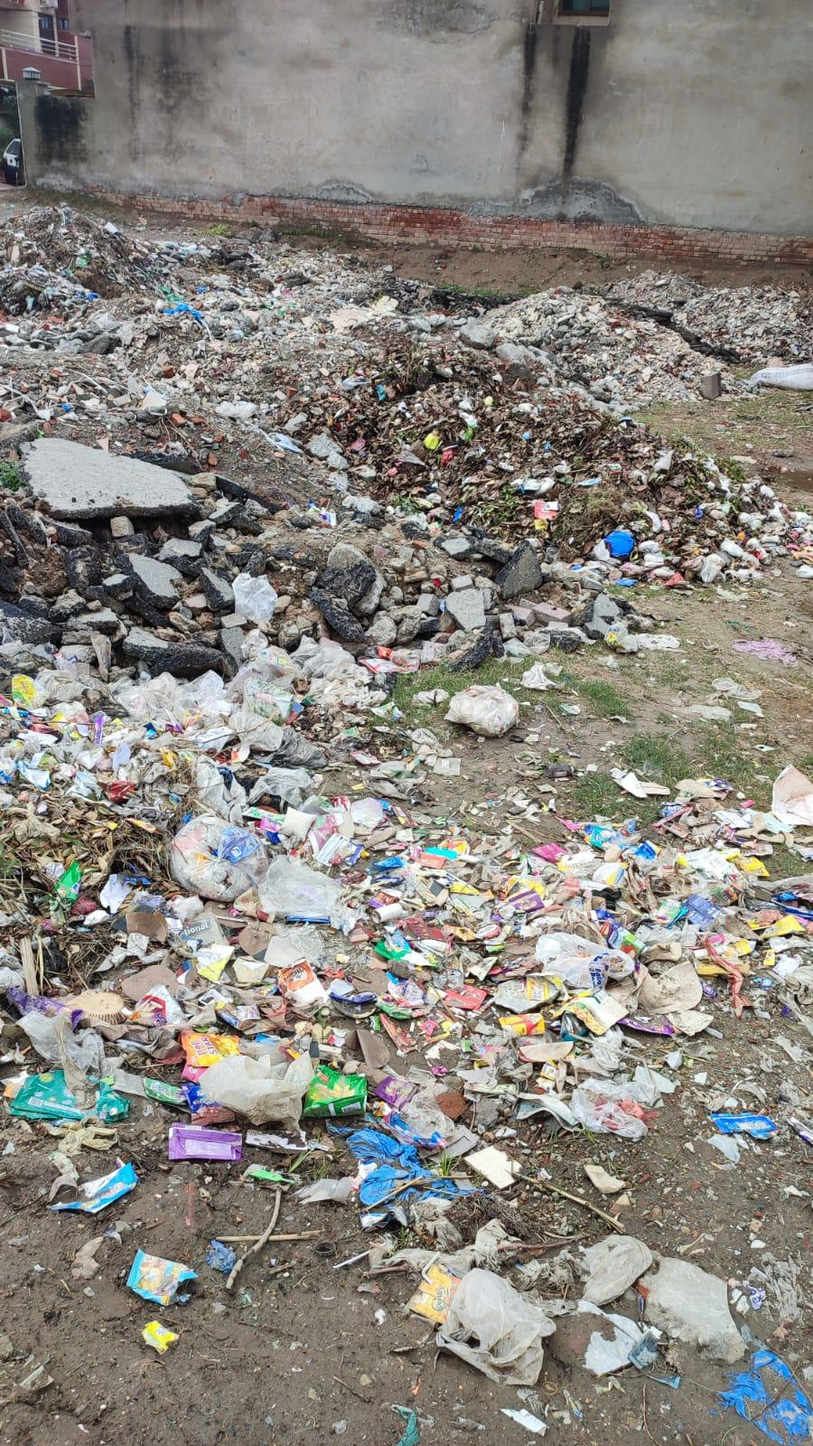garbage: (13, 227, 813, 1421)
